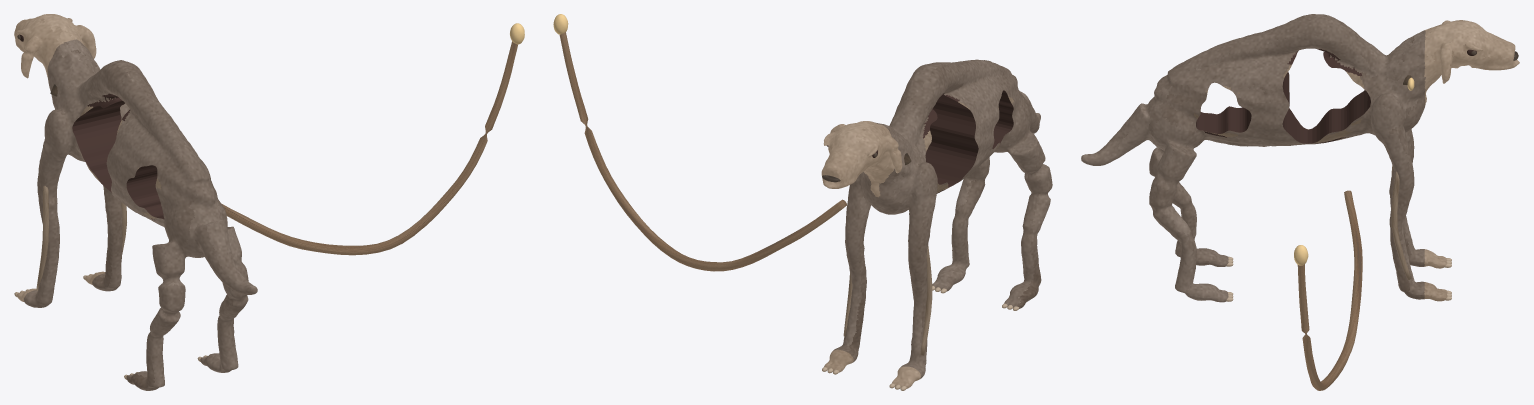
The model's file is outskirts-vacant-dog.glb.
The picture shows the model from 3 angles, left to right: view 1: azimuth 30°, elevation 25°; view 2: azimuth 150°, elevation 25°; view 3: azimuth 270°, elevation 25°; orthographic projection. The views are drawn at different scales.
Visible parts, largest first — view 1: outskirts_vacant_dog, outskirts_slack_lead; view 2: outskirts_vacant_dog, outskirts_slack_lead; view 3: outskirts_vacant_dog, outskirts_slack_lead.
Boxes of the visible parts, left/top/right/bottom form: outskirts_vacant_dog: left=14, top=14, right=257, bottom=390; outskirts_slack_lead: left=221, top=23, right=524, bottom=255; outskirts_vacant_dog: left=821, top=59, right=1052, bottom=390; outskirts_slack_lead: left=553, top=14, right=846, bottom=271; outskirts_vacant_dog: left=1081, top=14, right=1519, bottom=302; outskirts_slack_lead: left=1294, top=190, right=1362, bottom=390.
Bounding box in the file's own units: 2.82 × 1.67 × 2.5.
10 materials, 6 textured.
